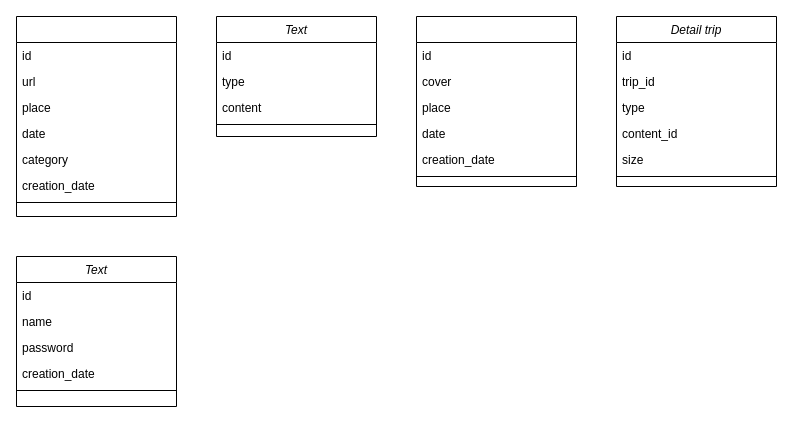
Some shapes in this 793 by 423 pixel diagram are drawn without their labels. Here are the shapes that lost their labels. From the top down, the box of each, then its label:
(16, 16, 176, 216): Image
(416, 16, 576, 186): Trip
